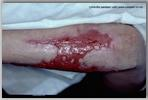NonPU: (10, 30, 117, 71)
